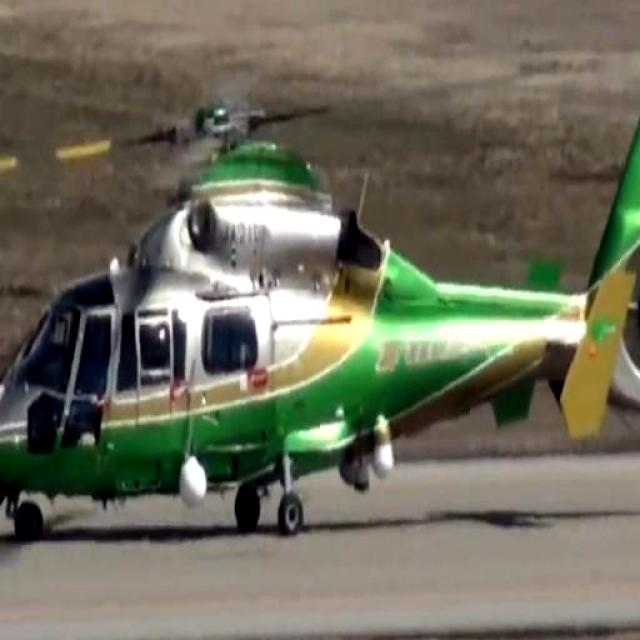drone: (0, 0, 640, 569)
